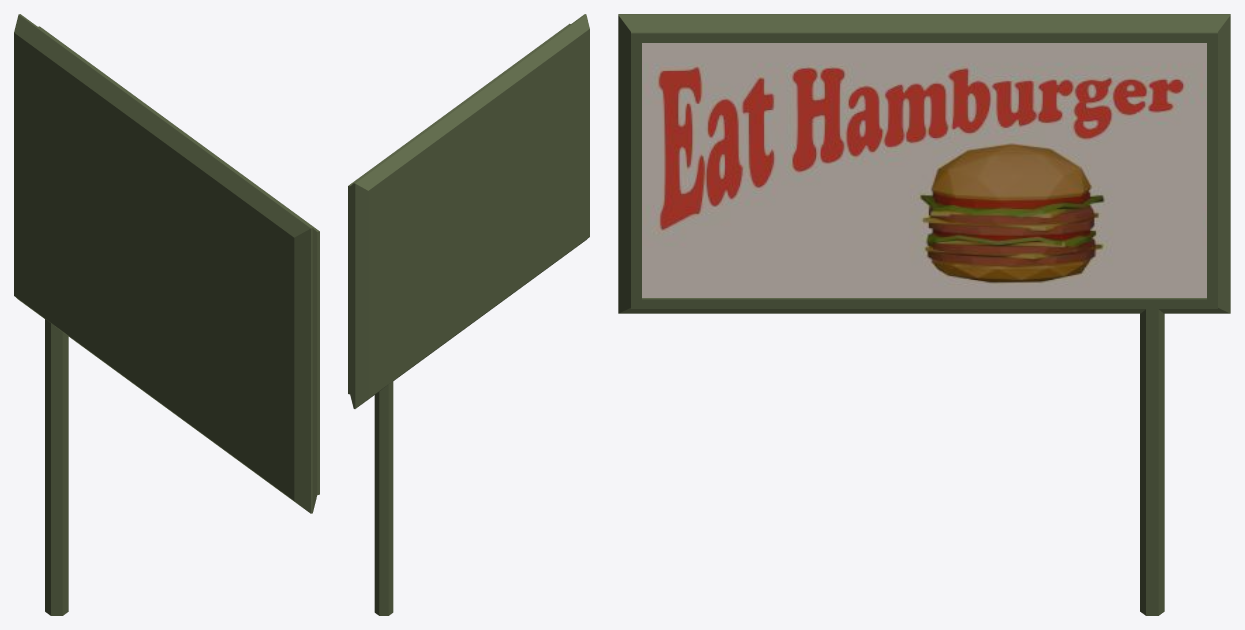
Rendered from billboard_exported.glb.
3 views of the same model, side by side, from view 1: azimuth 30°, elevation 25°; view 2: azimuth 150°, elevation 25°; view 3: azimuth 270°, elevation 25° (orthographic). The views are drawn at different scales.
Parts seen in each view (by area): view 1: board, legs; view 2: board, legs; view 3: board, legs.
Part boxes in pixels (<box>): board: <box>14,14,319,513</box>; legs: <box>45,319,68,615</box>; board: <box>348,14,589,408</box>; legs: <box>374,381,393,615</box>; board: <box>618,14,1230,313</box>; legs: <box>1140,309,1164,615</box>.
Bounding box in the file's own units: 0.4406 × 9.32 × 8.67.
Materials: 2 (1 with a texture image).
